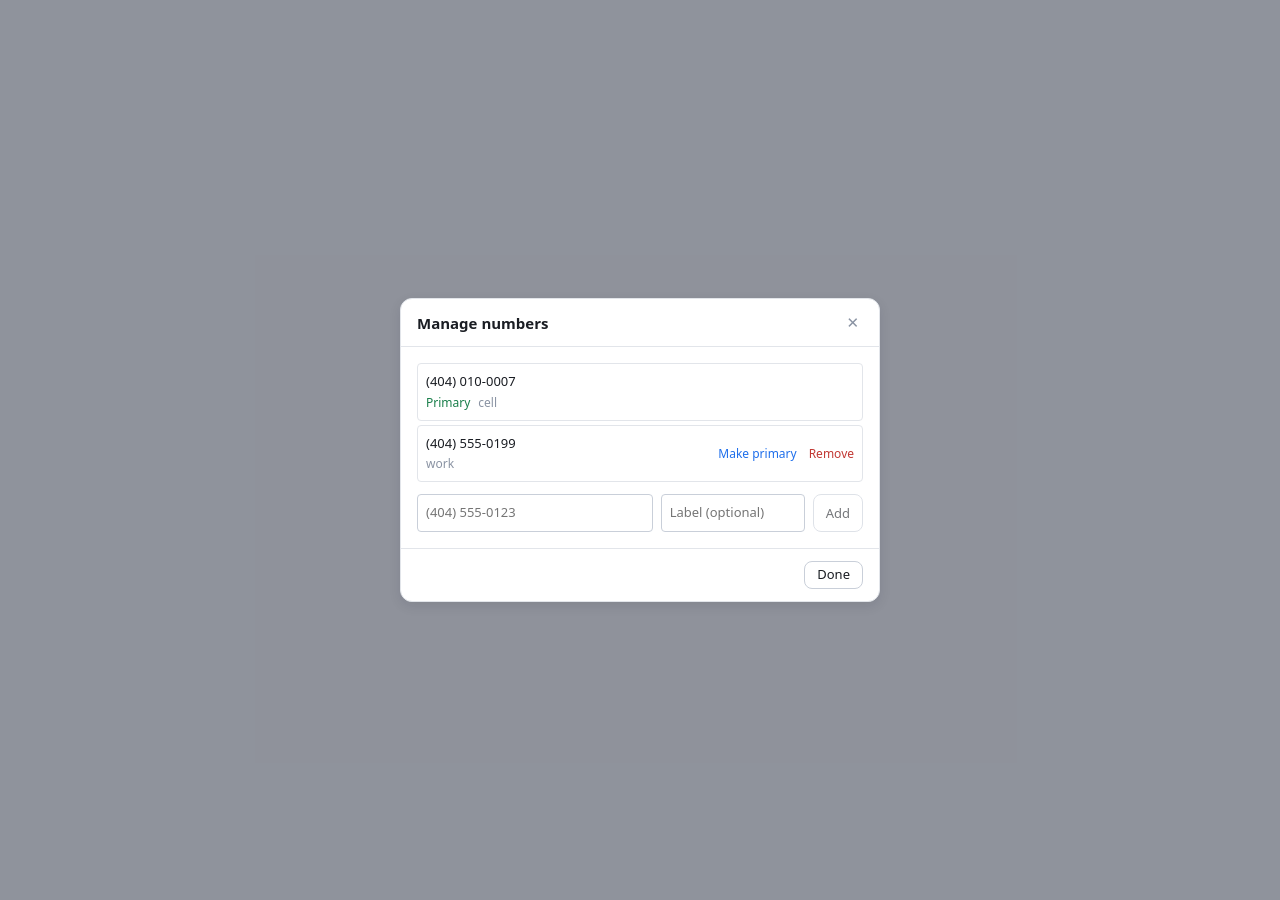
Scenario: PhoneManager › phone blur snaps dashed 10-digit to display form
Type "404-982-4978" into the field named "New phone number".
click(535, 513); type("404-982-4978")  # box [417,494,653,532]
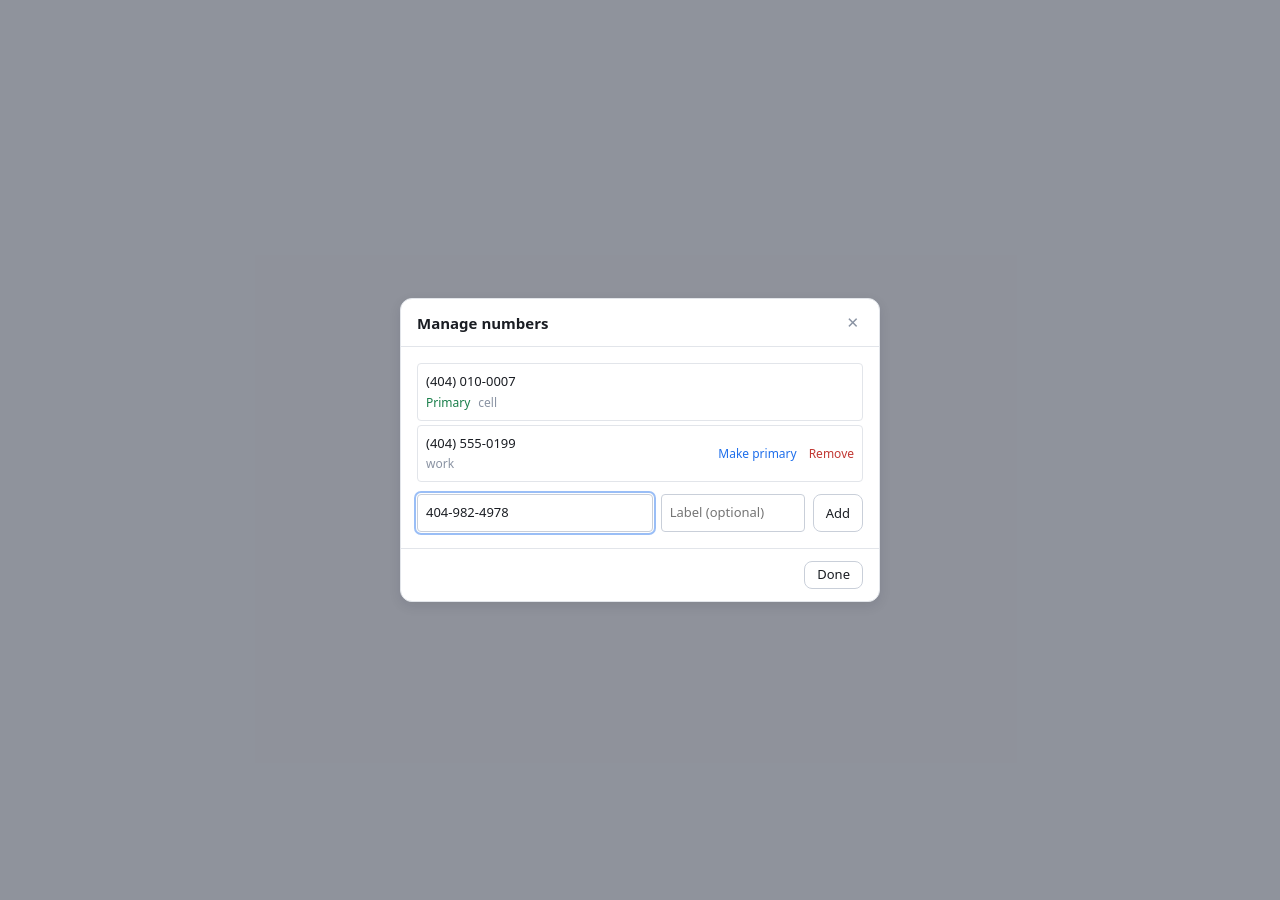
Press Tab
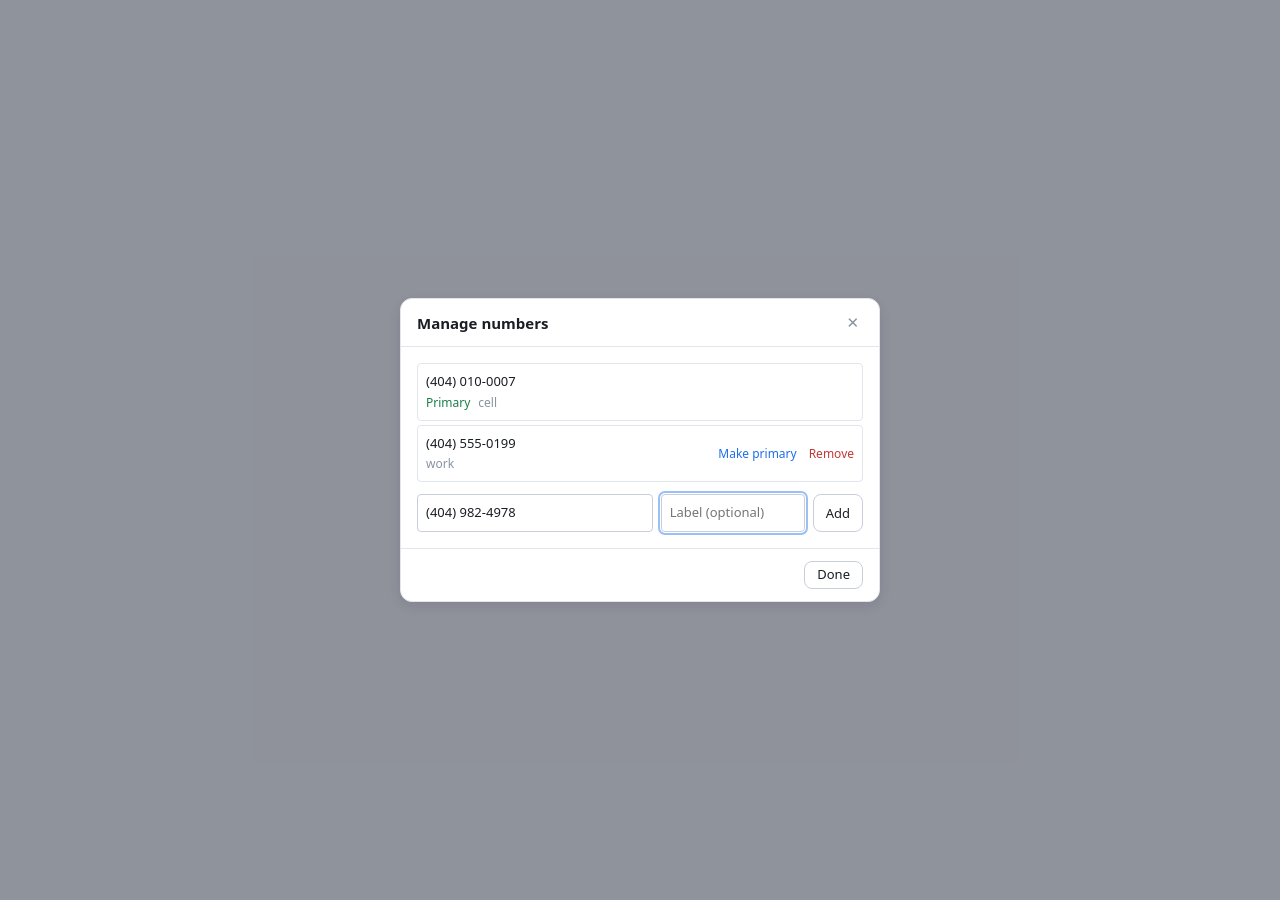
expect the field named "New phone number" holds "(404) 982-4978": met, box [417,494,653,532]
